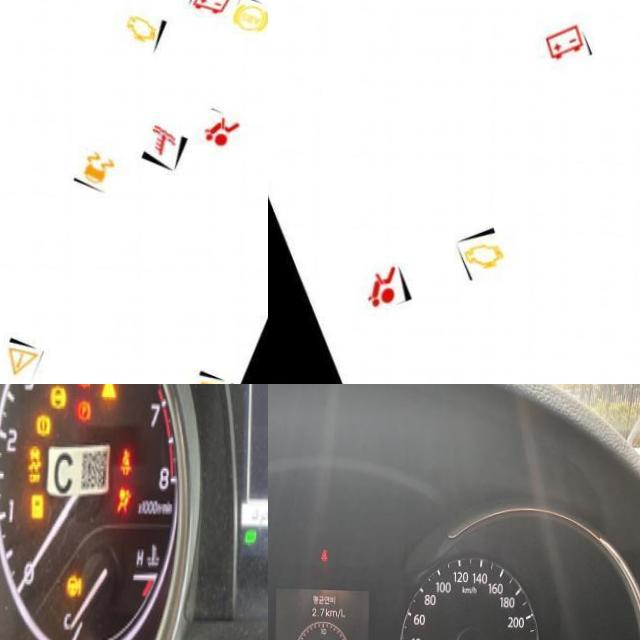Electronic Power Steering: (66, 572, 88, 603)
Seat Belt: (121, 448, 133, 476)
